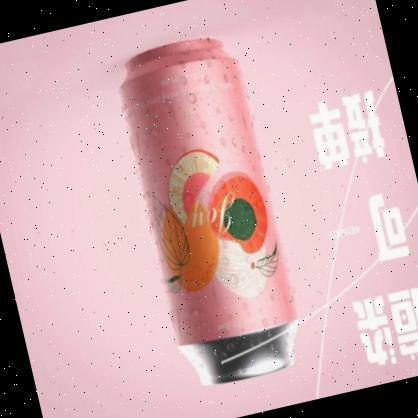can: (105, 28, 316, 400)
